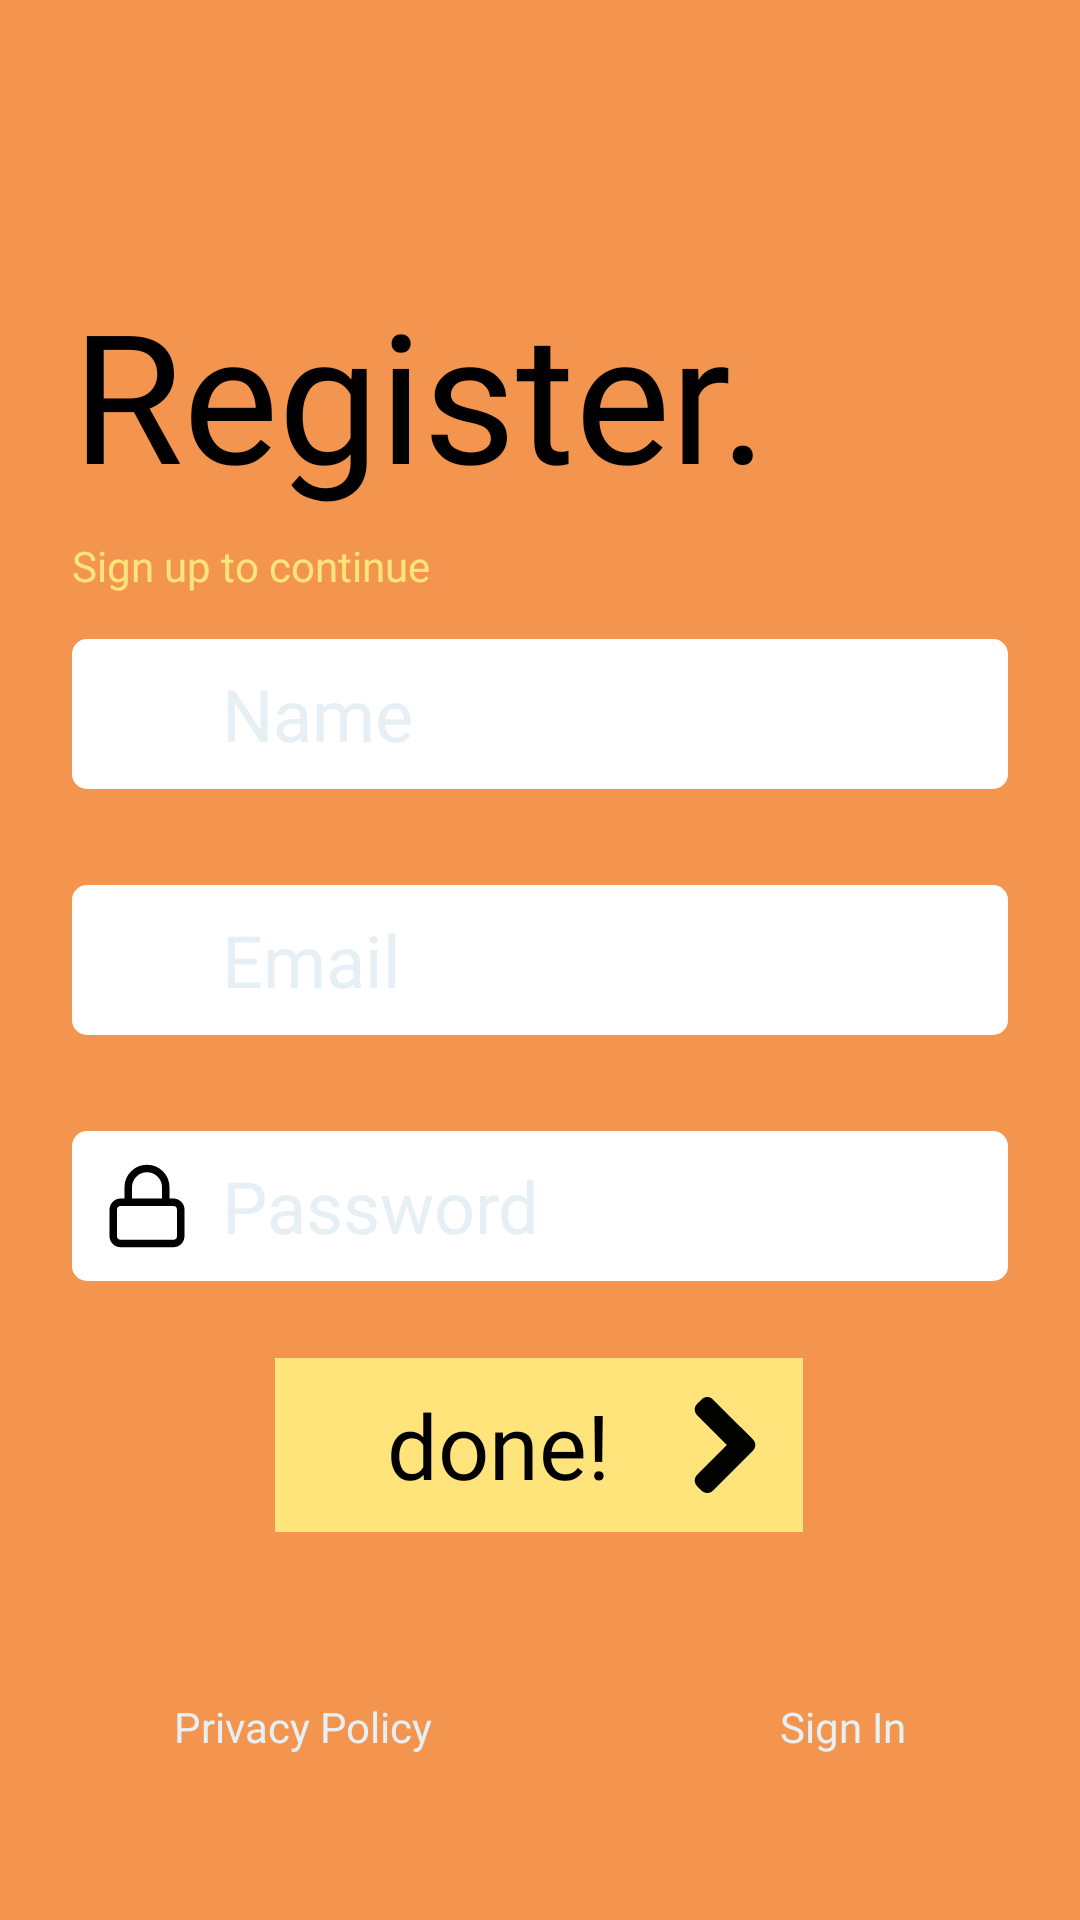

Icon bounding boxes for this 1080x1920 phone screenshot, format bbox(x1, y1, x2, y2):
lock: bbox(72, 1131, 222, 1281)
